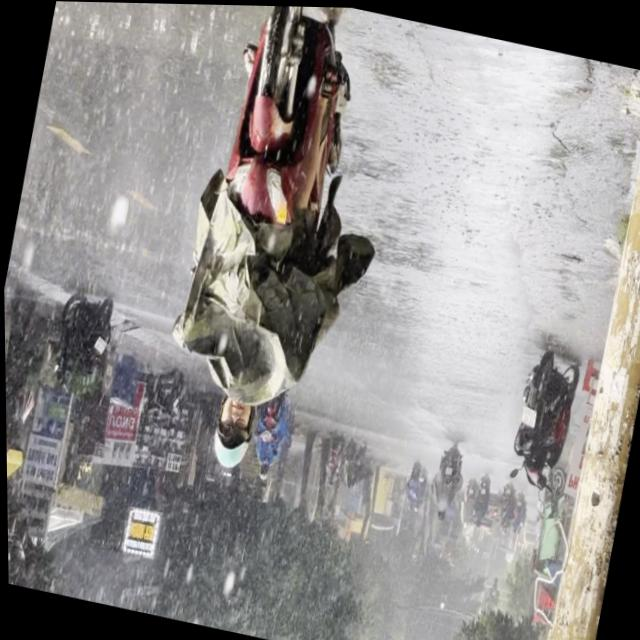helmet: (204, 395, 257, 473)
licenseplate: (137, 2, 400, 494)
